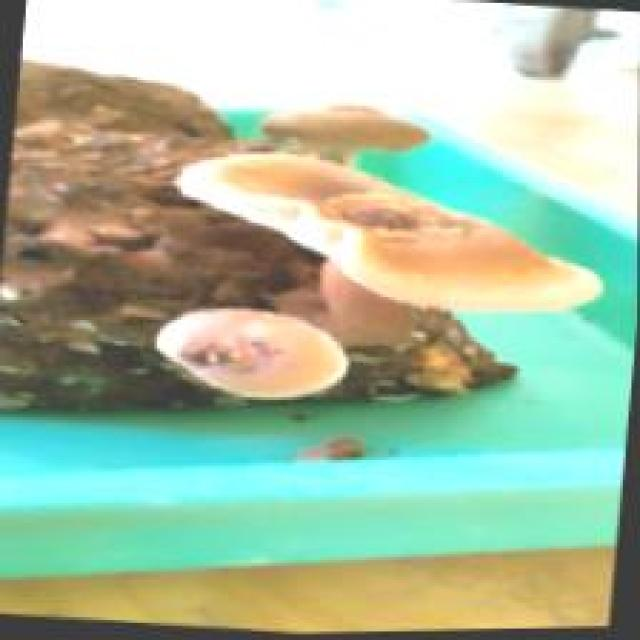death-cap: (152, 303, 348, 400)
